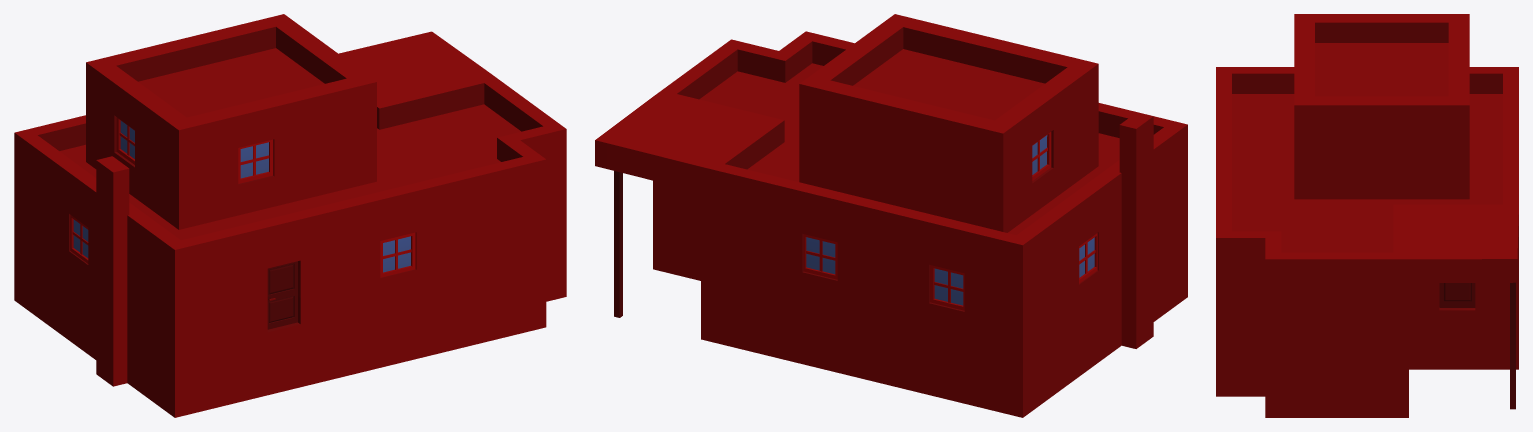
File: buildings-residential-adobehouse_v2.fbx
The picture shows the model from 3 angles, left to right: view 1: azimuth 30°, elevation 25°; view 2: azimuth 150°, elevation 25°; view 3: azimuth 270°, elevation 25°; orthographic projection. The views are drawn at different scales.
Visible parts, largest first — view 1: AdobeHouse_v2_base, AdobeHouse_v2_windowRefl; view 2: AdobeHouse_v2_base, AdobeHouse_v2_windowRefl; view 3: AdobeHouse_v2_base.
Part boxes in pixels (x1,y1,x2,y2): AdobeHouse_v2_base: (14, 14, 566, 417); AdobeHouse_v2_windowRefl: (73, 120, 410, 272); AdobeHouse_v2_base: (595, 14, 1187, 417); AdobeHouse_v2_windowRefl: (806, 135, 1094, 305); AdobeHouse_v2_base: (1216, 14, 1518, 417).
Bounding box in the file's own units: 23.69 × 12.91 × 15.24.
